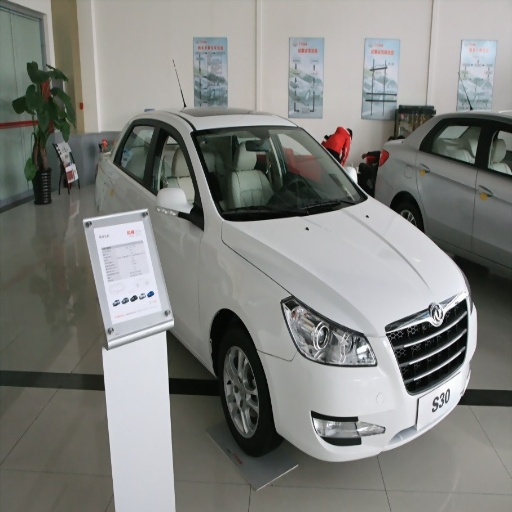front_bumper: (260, 301, 469, 461)
front_right_door: (138, 122, 204, 357)
front_right_light: (281, 295, 377, 365)
hood: (226, 201, 465, 366)
